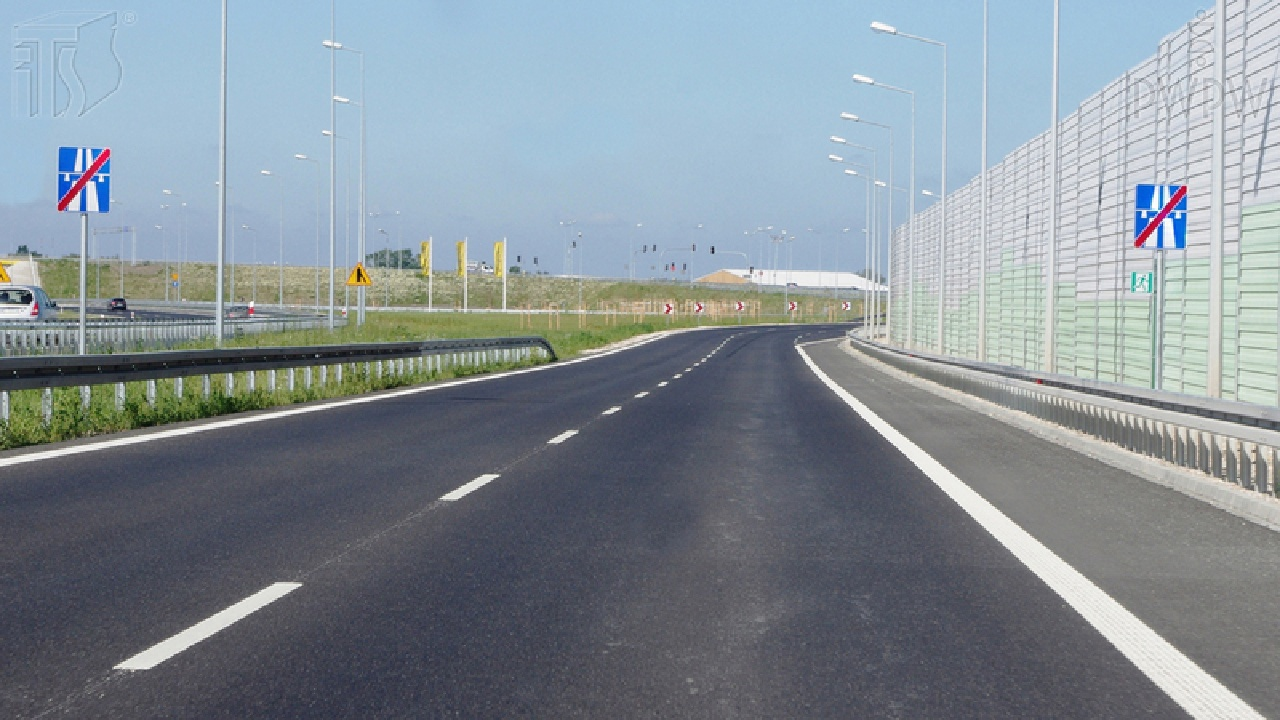A6d: (345, 262, 372, 285)
D10: (57, 146, 110, 214), (1135, 184, 1188, 250)
